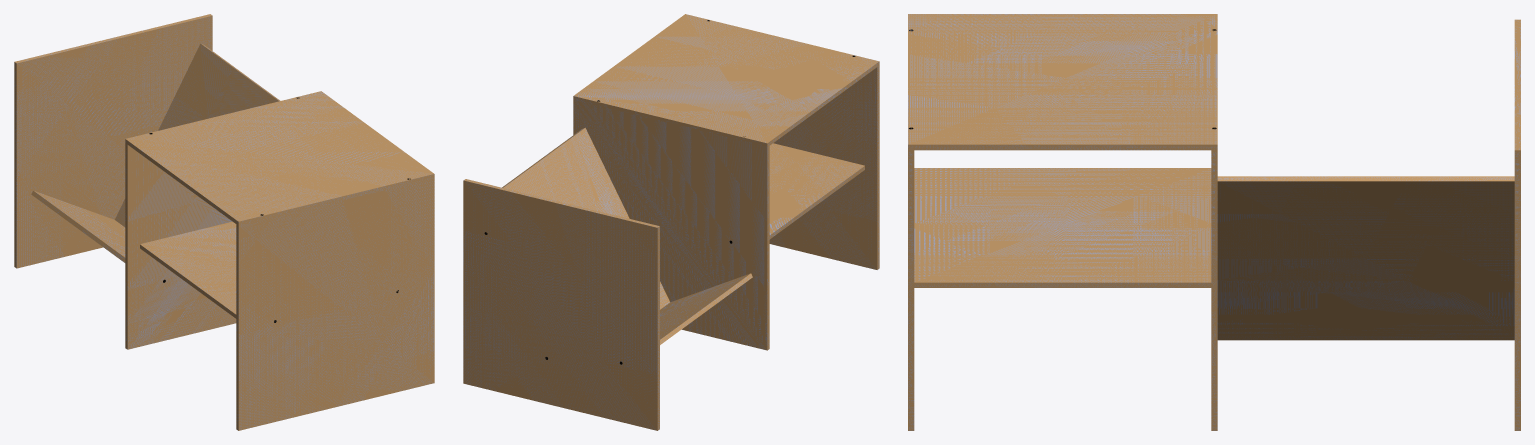
File: BOBOUCTJE_model_MiguelVanSteenbrugge_.obj
The picture shows the model from 3 angles, left to right: view 1: azimuth 30°, elevation 25°; view 2: azimuth 150°, elevation 25°; view 3: azimuth 270°, elevation 25°; orthographic projection. The views are drawn at different scales.
Parts seen in each view (by area): view 1: Mesh33 Board1 Model, Mesh39 Board4 Model, Mesh37 Board3 Model, Mesh35 Board2 Model, Mesh43 Board2_1_1 Model, Mesh41 Board2_1 Model, Mesh45 Board3_1 Model; view 2: Mesh39 Board4 Model, Mesh35 Board2 Model, Mesh37 Board3 Model, Mesh33 Board1 Model, Mesh43 Board2_1_1 Model, Mesh41 Board2_1 Model, Mesh45 Board3_1 Model; view 3: Mesh43 Board2_1_1 Model, Mesh37 Board3 Model, Mesh41 Board2_1 Model, Mesh39 Board4 Model, Mesh33 Board1 Model, Mesh35 Board2 Model, Mesh45 Board3_1 Model.
Part boxes in pixels (x1,y1,x2,y2): Mesh33 Board1 Model: [236, 178, 434, 430]; Mesh39 Board4 Model: [14, 14, 212, 268]; Mesh37 Board3 Model: [125, 91, 434, 225]; Mesh35 Board2 Model: [125, 143, 236, 349]; Mesh43 Board2_1_1 Model: [115, 43, 280, 227]; Mesh41 Board2_1 Model: [140, 221, 236, 318]; Mesh45 Board3_1 Model: [31, 190, 125, 262]; Mesh39 Board4 Model: [463, 179, 659, 430]; Mesh35 Board2 Model: [573, 100, 769, 350]; Mesh37 Board3 Model: [573, 14, 879, 147]; Mesh33 Board1 Model: [769, 65, 879, 269]; Mesh43 Board2_1_1 Model: [502, 127, 669, 309]; Mesh41 Board2_1 Model: [769, 143, 864, 239]; Mesh45 Board3_1 Model: [660, 273, 752, 344]; Mesh43 Board2_1_1 Model: [1217, 176, 1514, 336]; Mesh37 Board3 Model: [908, 14, 1217, 150]; Mesh41 Board2_1 Model: [914, 168, 1211, 287]; Mesh39 Board4 Model: [1514, 19, 1520, 430]; Mesh33 Board1 Model: [908, 150, 914, 430]; Mesh35 Board2 Model: [1211, 150, 1217, 430]; Mesh45 Board3_1 Model: [1217, 336, 1514, 340].
Size of the model in its own units: 400 by 408 by 792.
